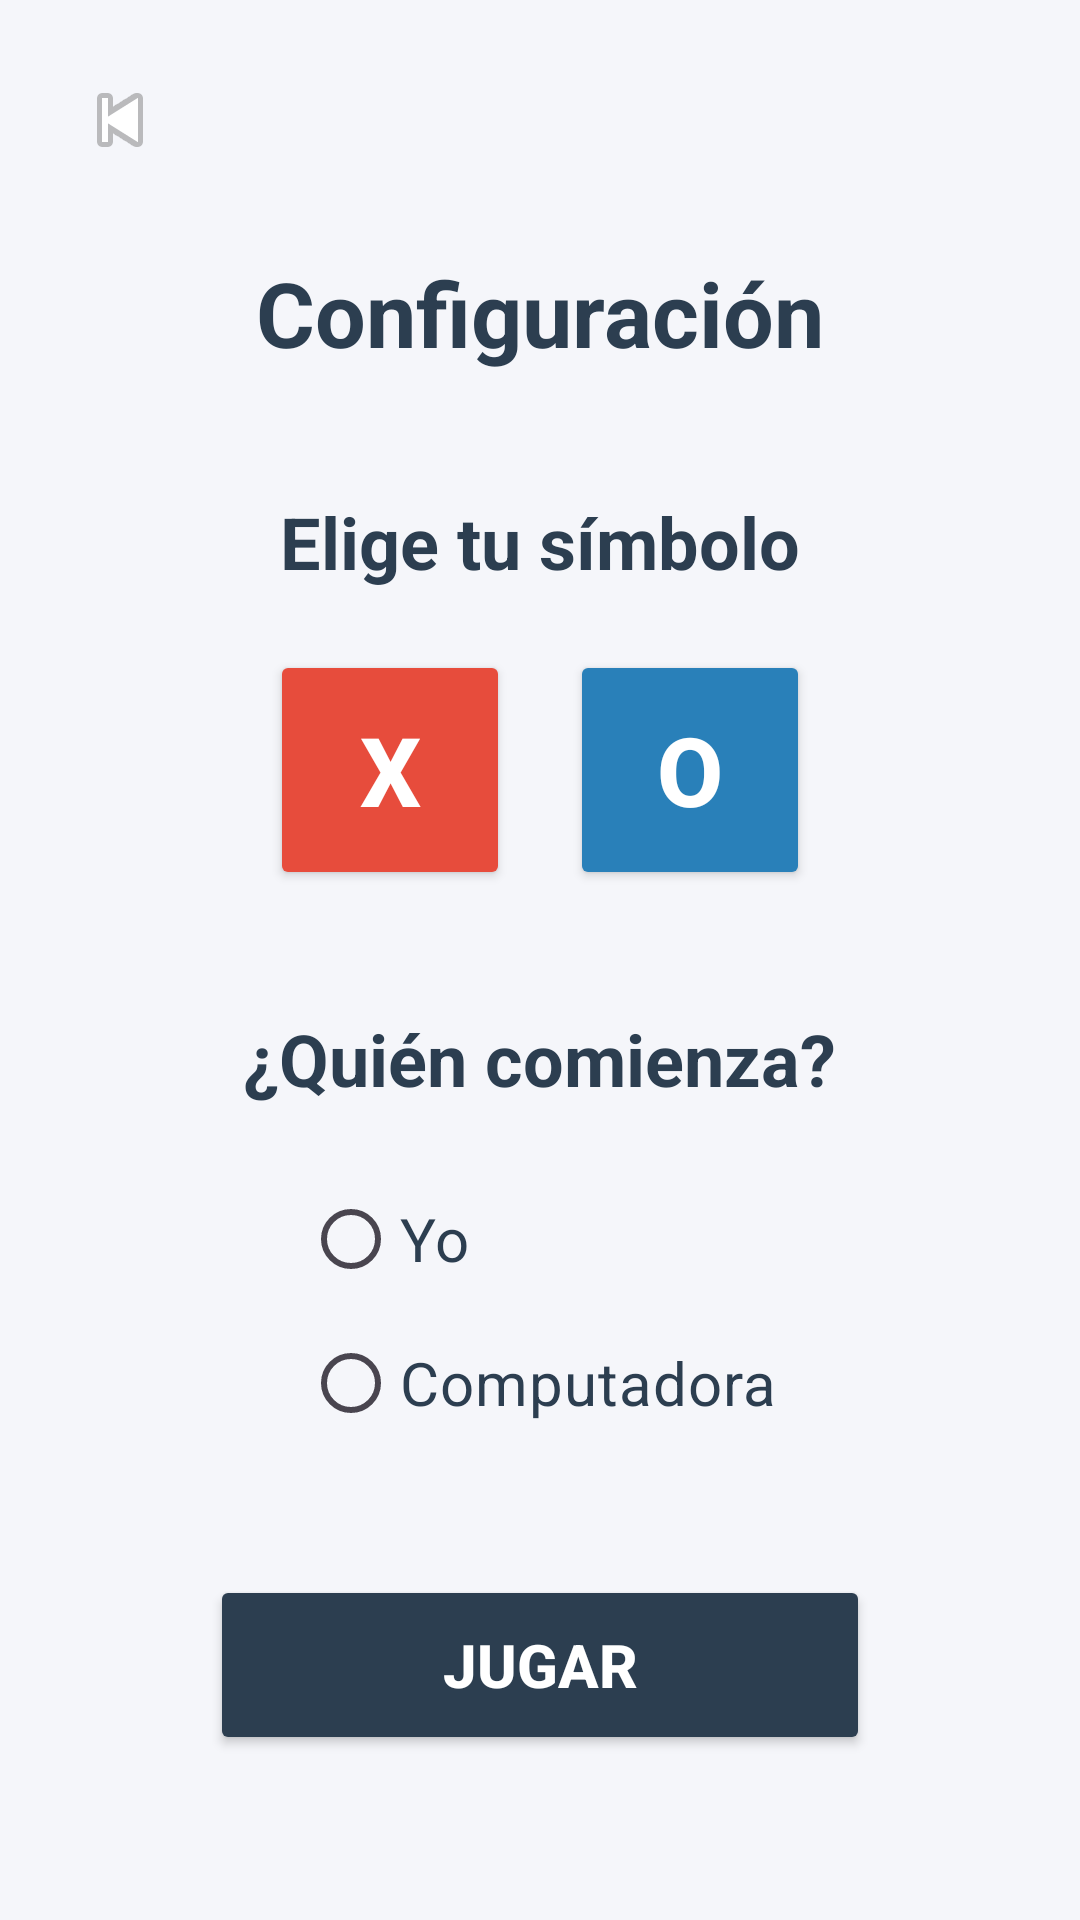

Icons on this 1080w x 1920h Android screen, each with its box as [x1, y1, x2, y2]:
Regresar al inicio: [97, 93, 143, 147]
